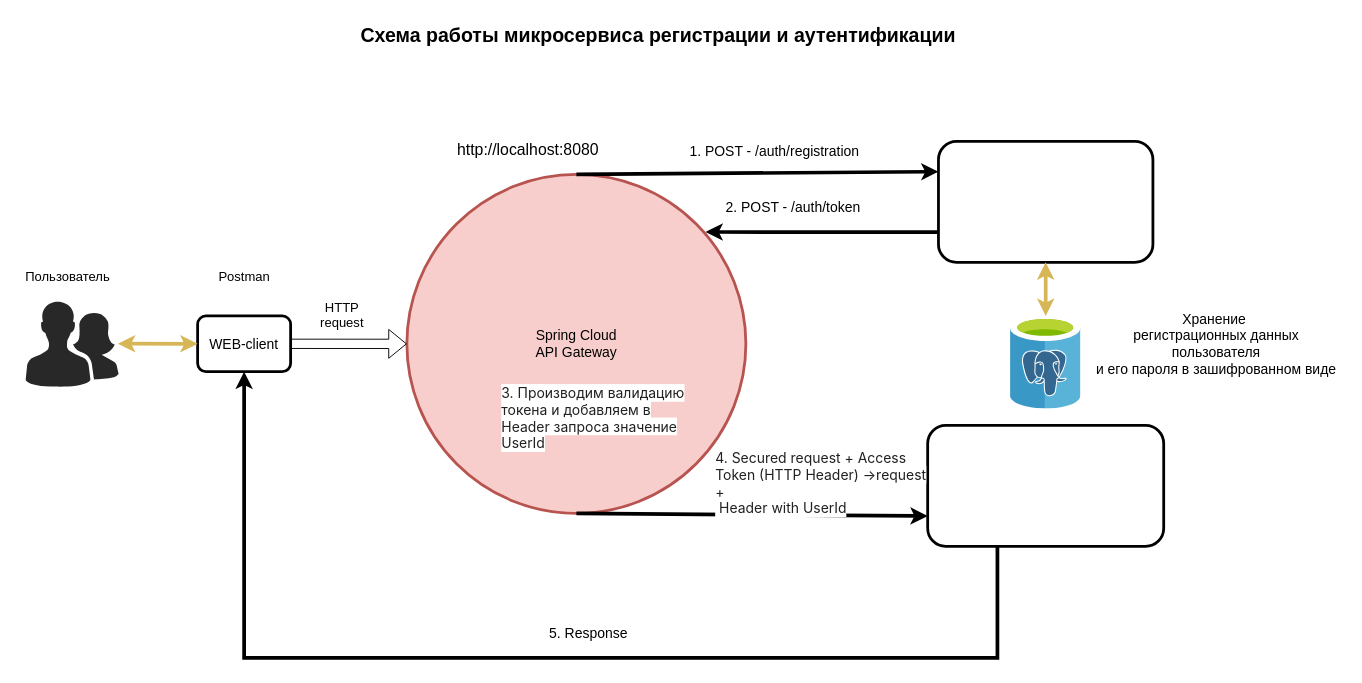
Some shapes in this 1362 by 683 pixel diagram are drawn without their labels. The centre of each missing label's shape, as x and y in pixels:
"Микросервис процессинга - Exchange-processing-service" belongs at point (1045, 485).
"Микросервис регистрации и аутентификации - Identity-service" belongs at point (1045, 201).
